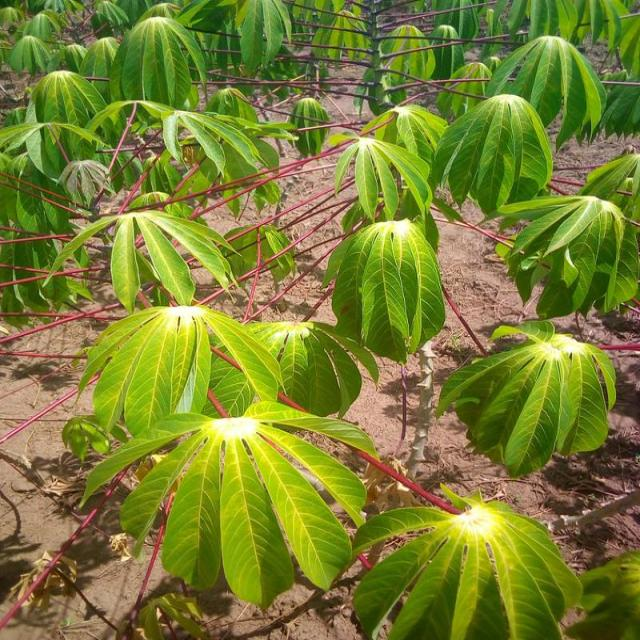cassava leaf: (74, 304, 378, 609), (352, 483, 582, 638), (435, 318, 616, 478), (330, 216, 446, 364), (432, 92, 553, 216)
